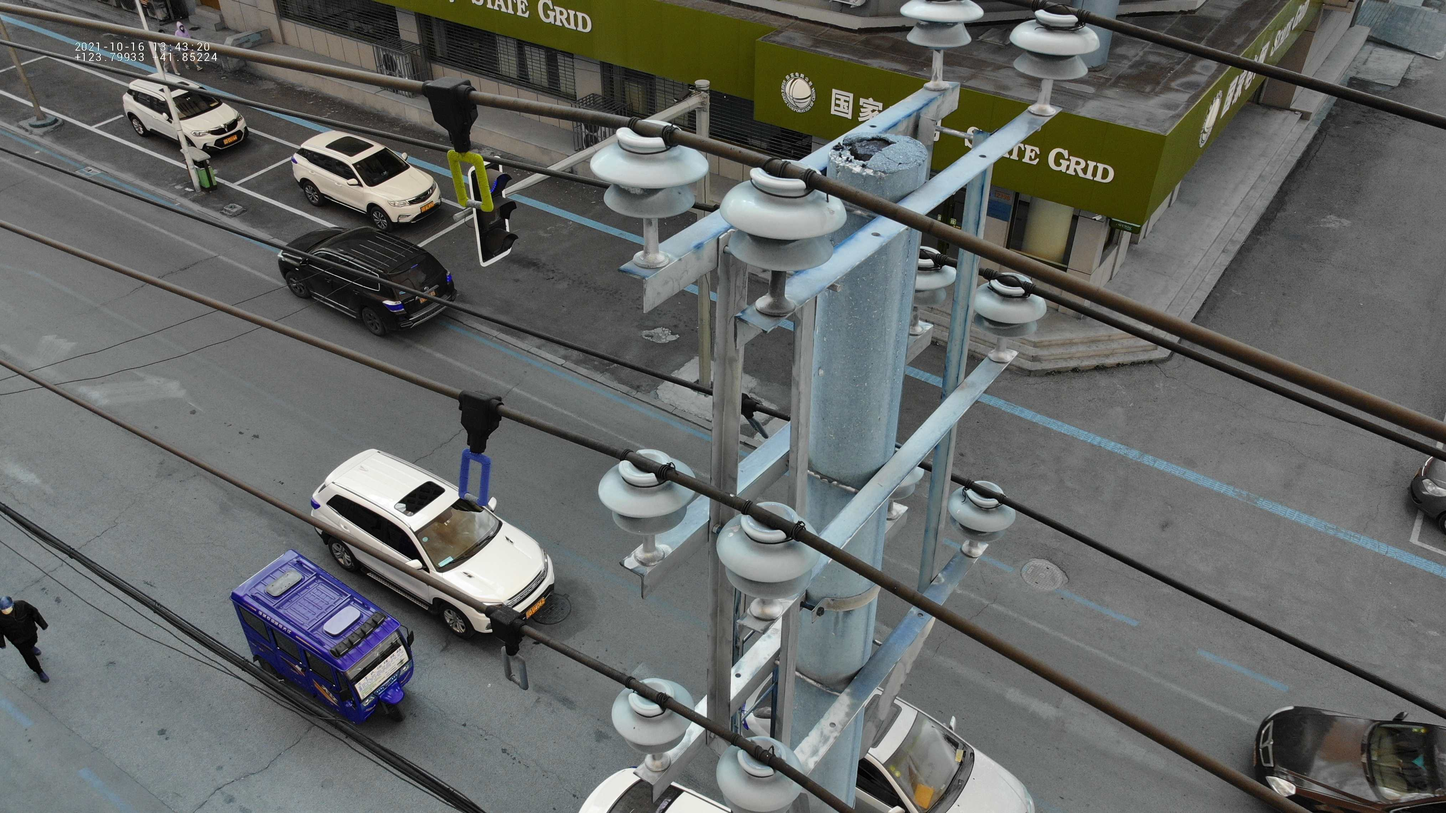severe_soiling_no_discharge_whole: (587, 111, 712, 221), (972, 269, 1048, 342), (948, 475, 1016, 546), (899, 1, 985, 51)
